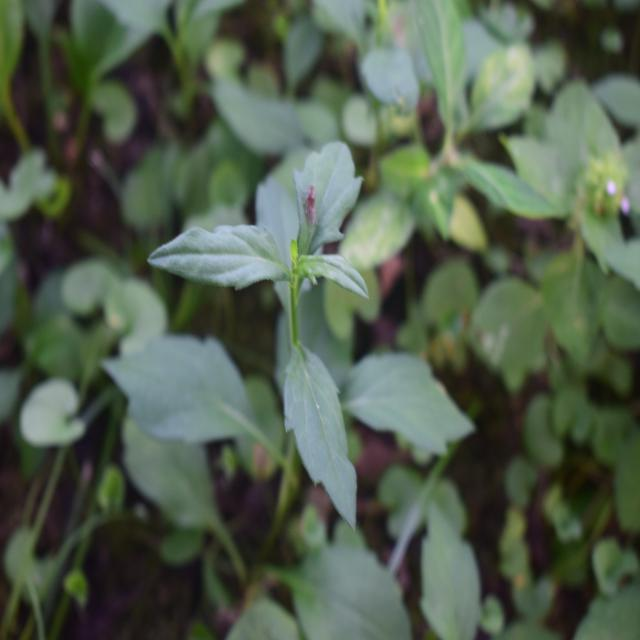Indian aster: (128, 174, 456, 554)
